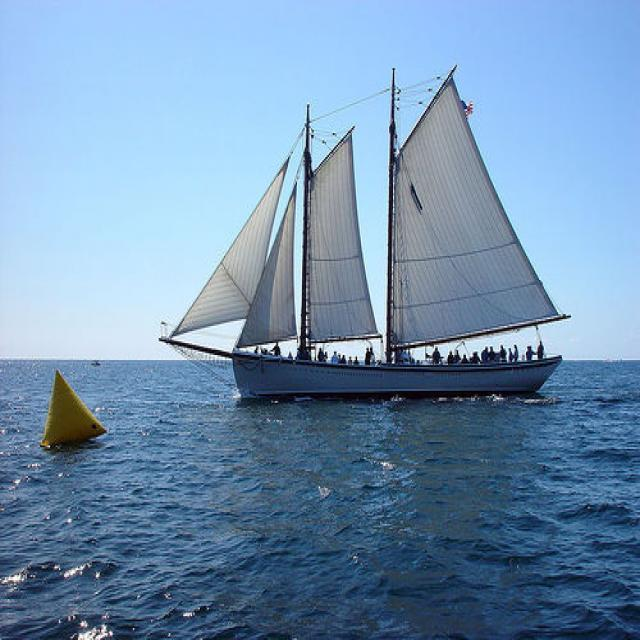Ship: (147, 67, 568, 398)
